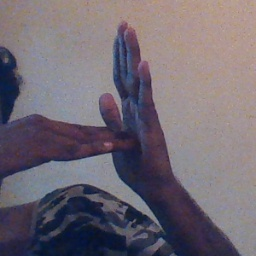Z: (46, 19, 179, 199)
